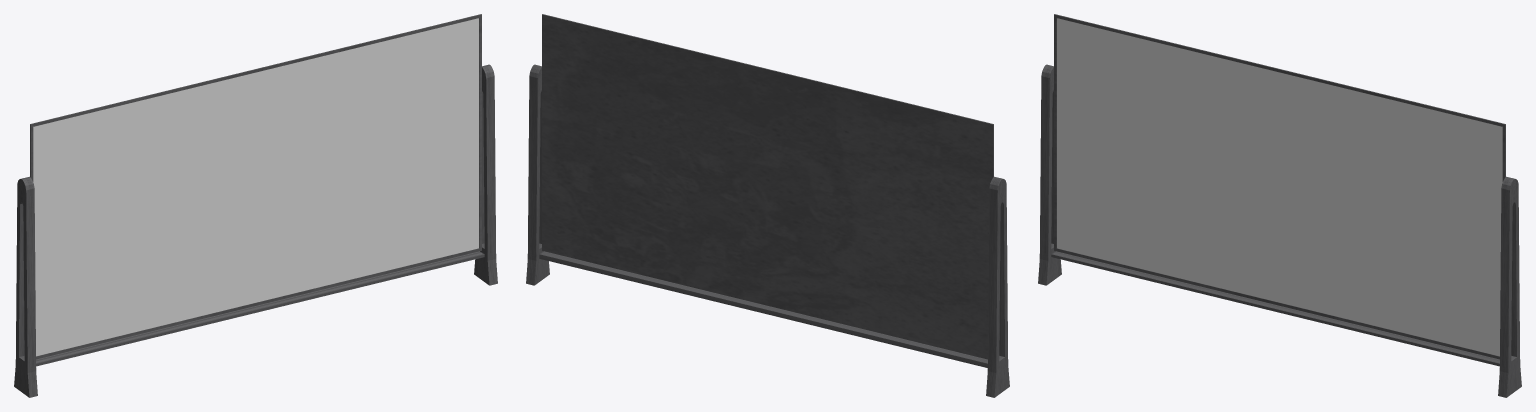
The model's file is Whiteboard.glb.
3 renders of one model, left to right at view 1: azimuth 30°, elevation 25°; view 2: azimuth 150°, elevation 25°; view 3: azimuth 330°, elevation 25°, orthographic.
Parts seen in each view (by area): view 1: Whiteboard; view 2: Whiteboard; view 3: Whiteboard.
Boxes of the visible parts, <box> form: Whiteboard: <box>14,14,497,397</box>; Whiteboard: <box>526,14,1009,397</box>; Whiteboard: <box>1038,14,1521,397</box>.
Size of the model in its own units: 7.26 by 3.94 by 0.4164.
Materials: 2 (1 with a texture image).
